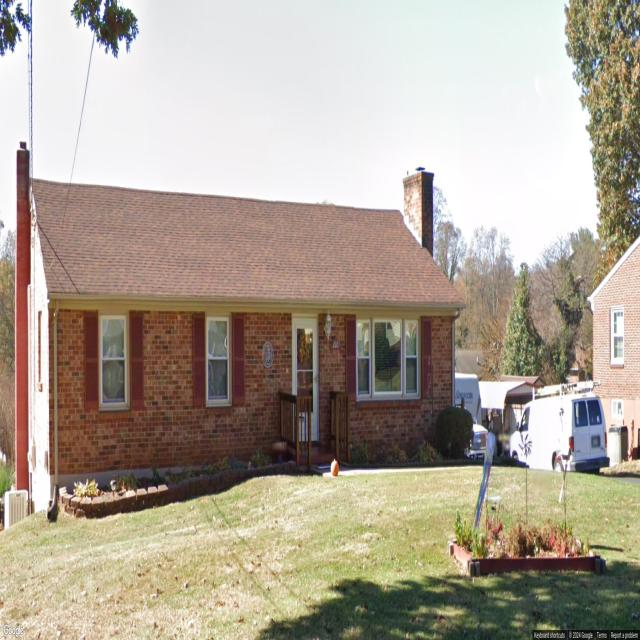House: (16, 143, 466, 511), (587, 235, 640, 461), (454, 350, 484, 381)
